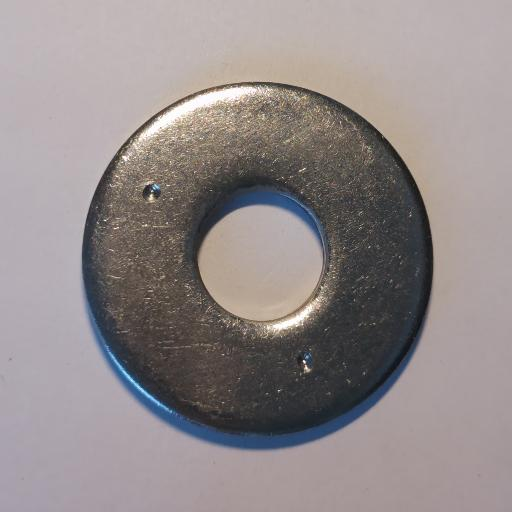circular_cavity: (297, 351, 314, 374), (143, 184, 161, 202)
